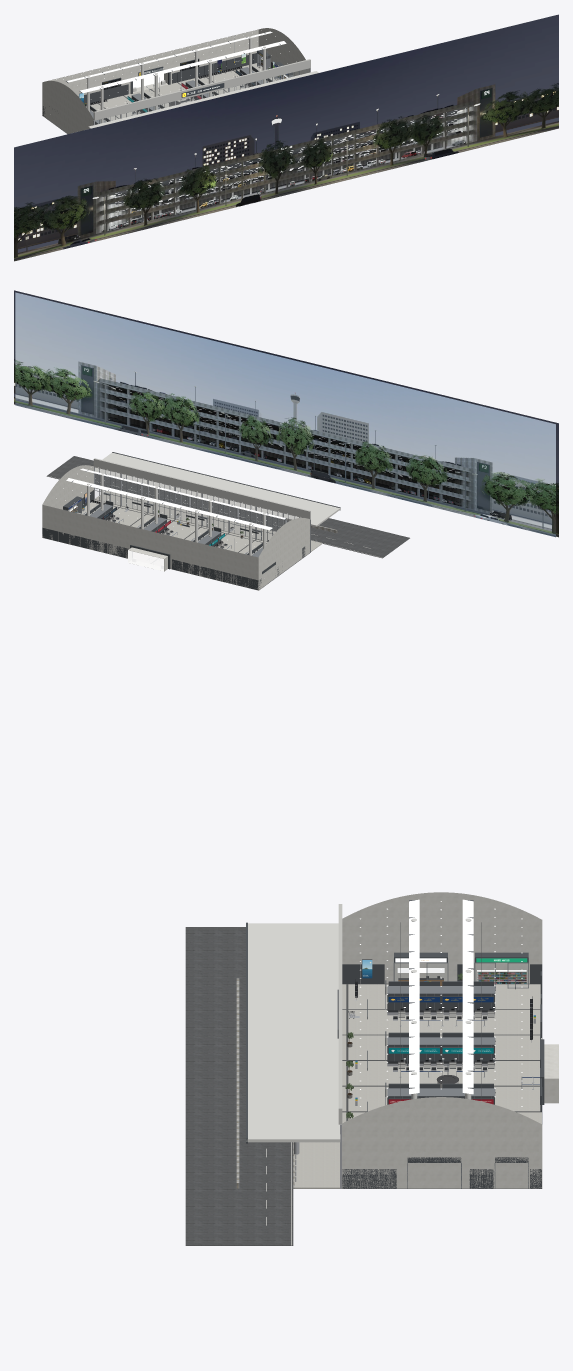
Rendered from airport_dep.glb.
3 views of the same model, one above another, from view 1: azimuth 30°, elevation 25°; view 2: azimuth 150°, elevation 25°; view 3: azimuth 270°, elevation 25° (orthographic). The views are drawn at different scales.
Parts seen in each view (by area): view 1: GLOW_ap_outside_night, WALL_ap_walls, ap_props, ap_panels, ap_floor, GLOW_ap_skylights, ap_white_parts, ap_columns, ap_mullions, ap_glass, GLOW_ap_signs; view 2: GLOW_ap_outside, WALL_ap_walls, ap_road, ap_white_parts, ap_floor, ap_panels, ap_glass, ap_props, ap_mullions, GLOW_ap_outside_night, GLOW_ap_skylights, ap_columns (+2 smaller); view 3: WALL_ap_walls, ap_road, ap_white_parts, ap_floor, ap_panels, GLOW_ap_skylights, ap_mullions, ap_steel_parts, ap_props, ap_glass, ap_floor_bands, GLOW_ap_airlines (+2 smaller).
Part boxes in pixels (box(x1,y1,x2,y2)): GLOW_ap_outside_night: box(14, 14, 558, 261); WALL_ap_walls: box(42, 28, 309, 133); ap_props: box(84, 59, 310, 120); ap_panels: box(42, 49, 293, 124); ap_floor: box(86, 63, 279, 121); GLOW_ap_skylights: box(67, 31, 286, 93); ap_white_parts: box(88, 71, 318, 128); ap_columns: box(87, 36, 265, 123); ap_mullions: box(66, 32, 305, 123); ap_glass: box(95, 55, 309, 123); GLOW_ap_signs: box(138, 59, 242, 97); GLOW_ap_outside: box(15, 292, 555, 537); WALL_ap_walls: box(42, 465, 309, 590); ap_road: box(46, 456, 409, 558); ap_white_parts: box(95, 452, 340, 567); ap_floor: box(43, 490, 322, 590); ap_panels: box(42, 452, 340, 589); ap_glass: box(69, 468, 298, 540); ap_props: box(82, 458, 310, 552); ap_mullions: box(63, 468, 299, 575); GLOW_ap_outside_night: box(14, 290, 558, 537); GLOW_ap_skylights: box(66, 468, 285, 530); ap_columns: box(87, 473, 265, 555); WALL_ap_walls: box(342, 892, 542, 1188); ap_road: box(185, 927, 293, 1245); ap_white_parts: box(246, 923, 507, 1142); ap_floor: box(293, 984, 541, 1188); ap_panels: box(246, 922, 544, 1188); GLOW_ap_skylights: box(409, 899, 473, 1094); ap_mullions: box(387, 900, 528, 1188); ap_steel_parts: box(294, 922, 535, 1188); ap_props: box(338, 904, 535, 1124); ap_glass: box(395, 964, 527, 987); ap_floor_bands: box(342, 983, 541, 1188); GLOW_ap_airlines: box(388, 997, 493, 1104).
Bounding box in the file's own units: 182 × 36.3 × 81.
Materials: 33 (18 with a texture image).
